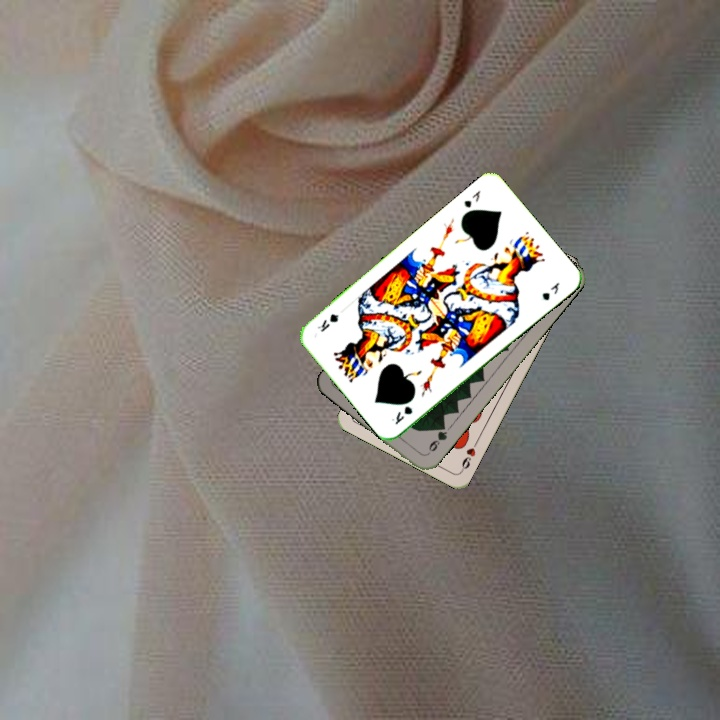G9: (423, 420, 450, 458)
GK: (387, 402, 415, 427), (460, 186, 483, 211)
H9: (457, 436, 481, 474)
